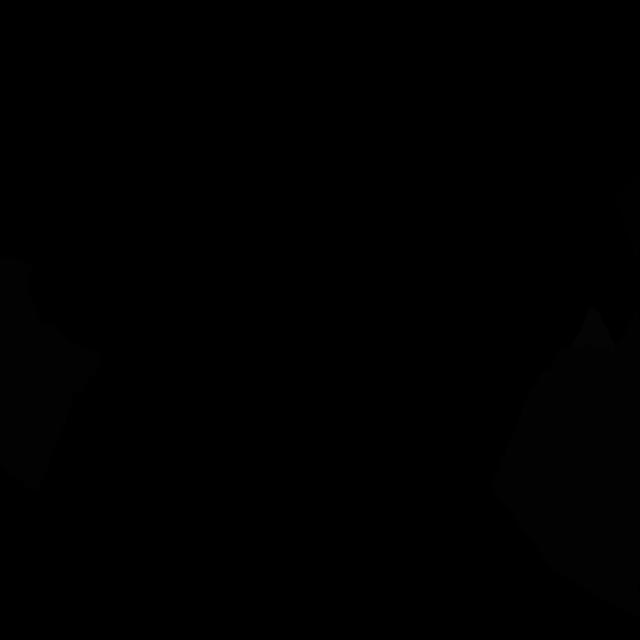cardboard: (490, 307, 640, 618), (0, 256, 102, 492)
rigid_plastic: (616, 172, 640, 265)
soft_plastic: (570, 307, 616, 353)
